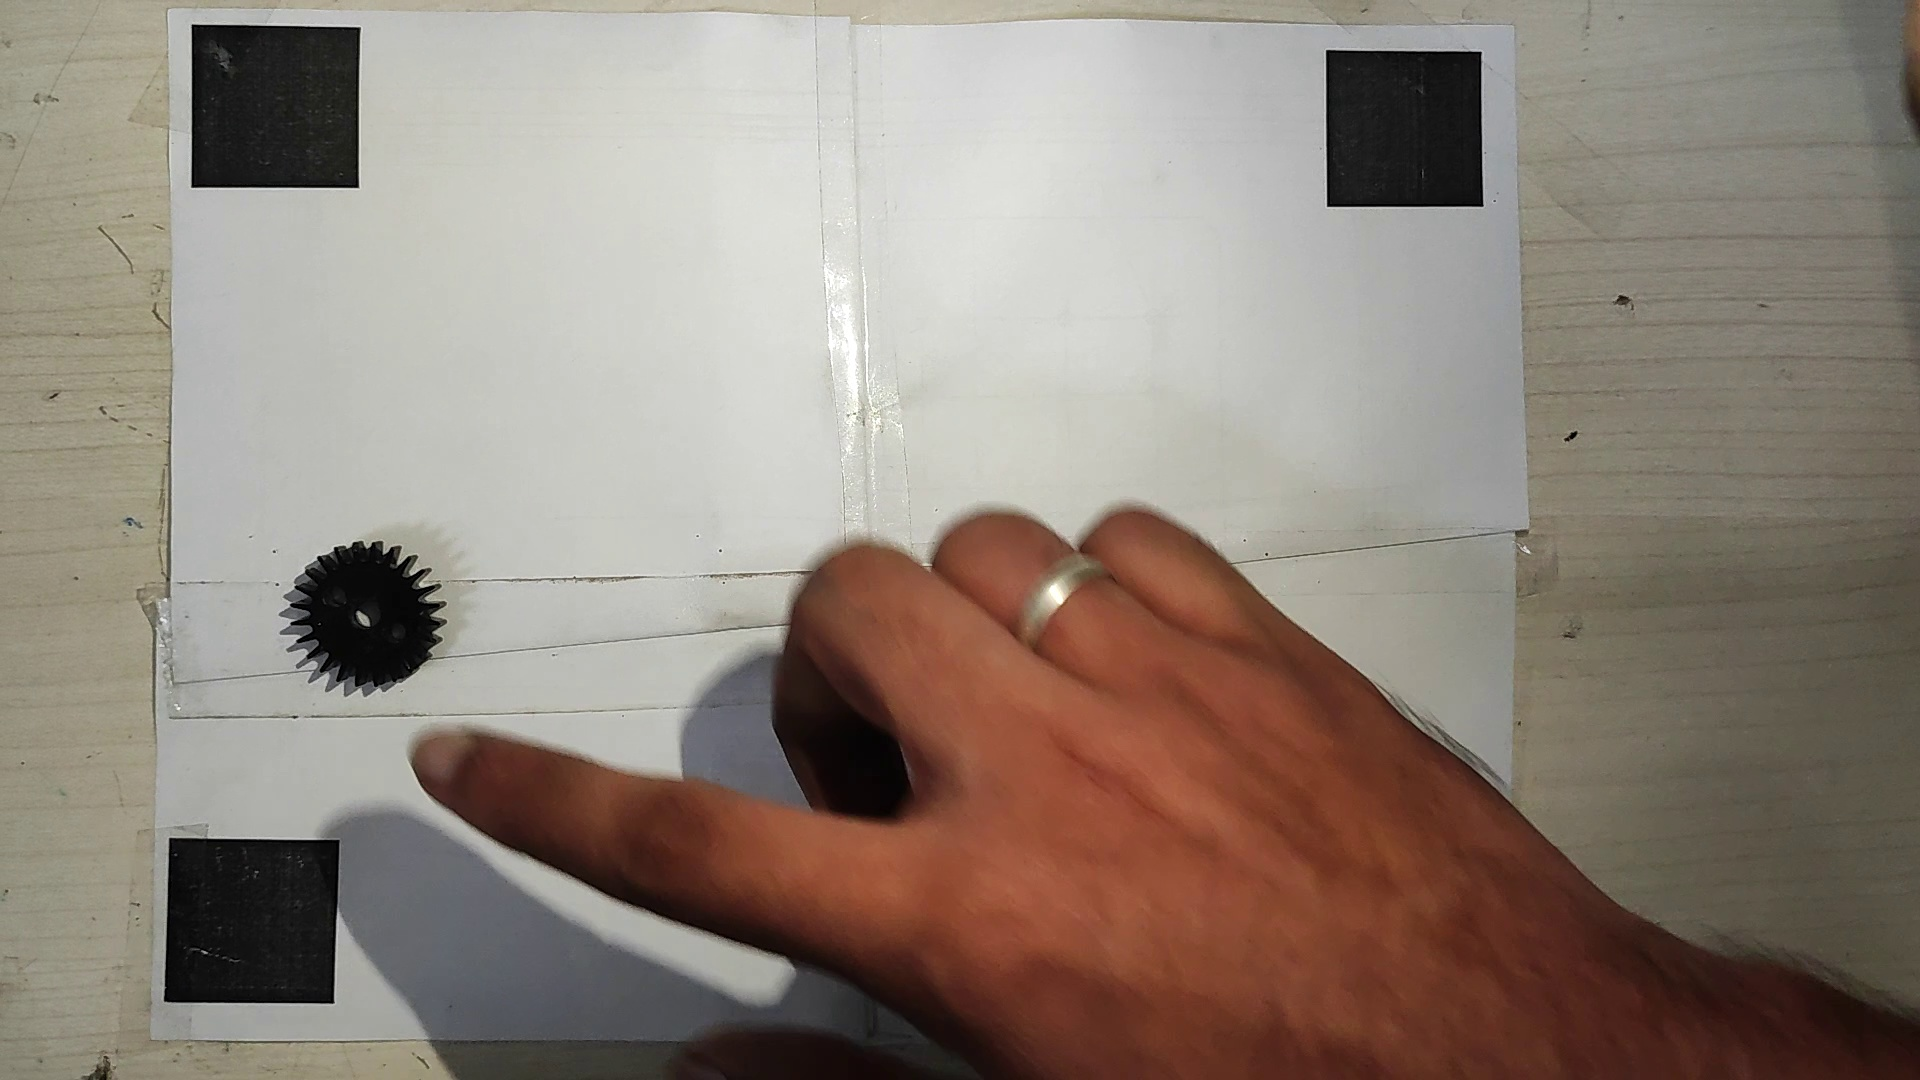Gear: (283, 540, 444, 689)
